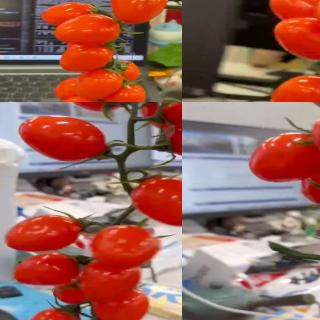tomato: (17, 115, 107, 163), (250, 132, 320, 182), (90, 224, 162, 270), (5, 215, 84, 254), (79, 259, 141, 302), (130, 176, 182, 227), (13, 253, 83, 288), (52, 12, 122, 44), (274, 18, 320, 61), (93, 288, 152, 320), (60, 43, 114, 72), (38, 1, 103, 25), (268, 74, 320, 102), (76, 69, 122, 100), (110, 0, 167, 24), (267, 0, 320, 23), (53, 76, 97, 100), (100, 57, 142, 82), (101, 82, 146, 102), (299, 165, 320, 207), (65, 102, 134, 114), (162, 117, 182, 156), (22, 309, 83, 320), (56, 95, 104, 102)
